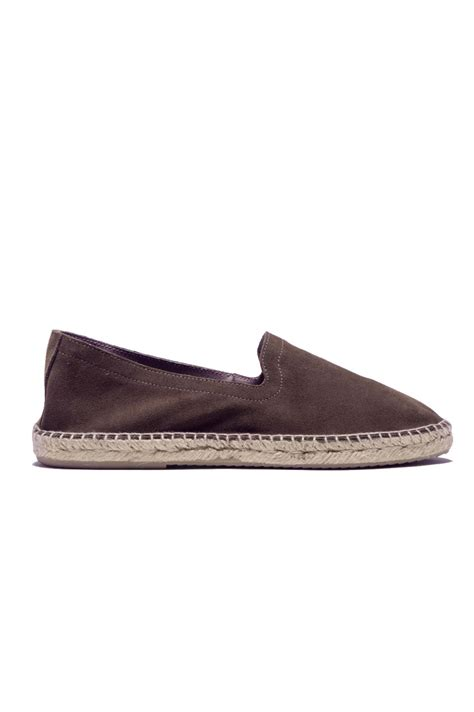gamuza: (35, 328, 447, 438)
